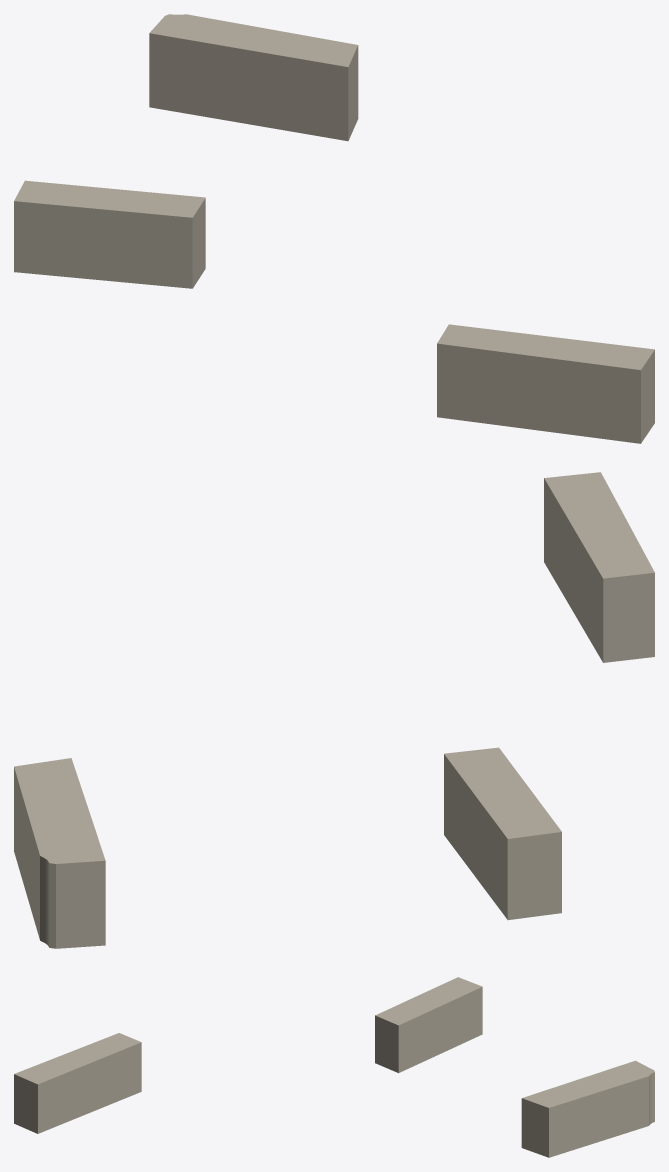
The model's file is kalkara_68_27_mid.glb.
The picture shows the model from 3 angles, top to bottom: view 1: azimuth 30°, elevation 25°; view 2: azimuth 150°, elevation 25°; view 3: azimuth 270°, elevation 25°; orthographic projection. The views are drawn at different scales.
Parts seen in each view (by area): view 1: geometry_0; view 2: geometry_0; view 3: geometry_0.
Boxes of the visible parts, box(x1,y1,x2,y2) form: geometry_0: box(14, 14, 654, 443); geometry_0: box(14, 472, 654, 948); geometry_0: box(14, 977, 654, 1157).
Size of the model in its own units: 61.68 by 11.37 by 124.
